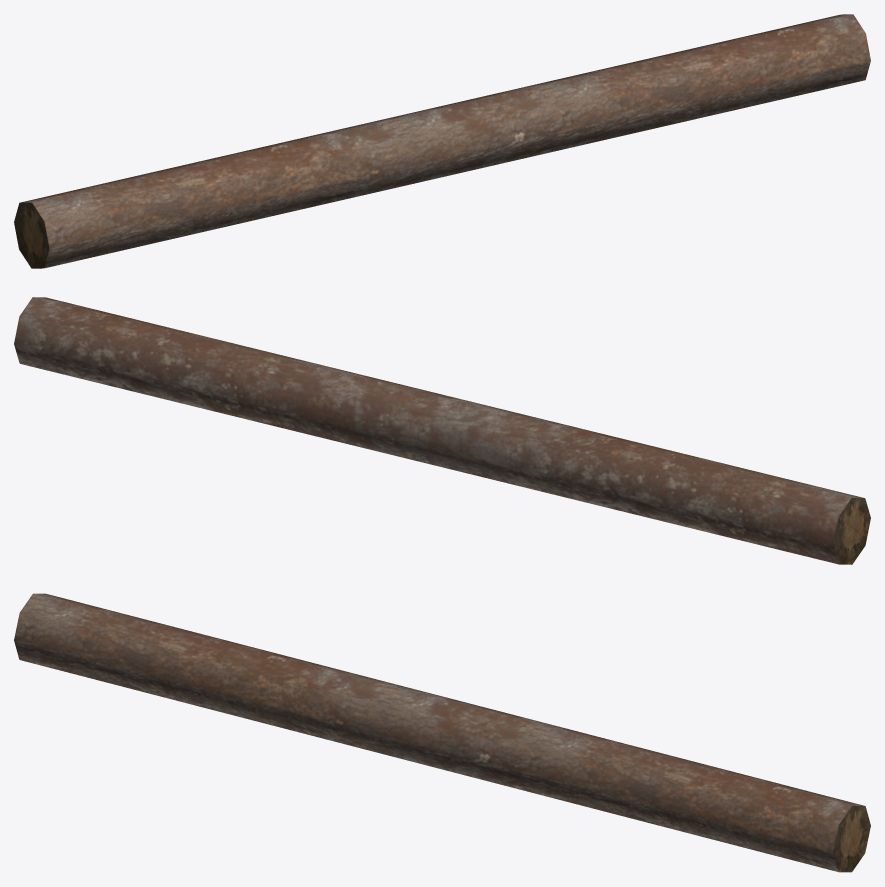
The picture shows the model from 3 angles, top to bottom: view 1: azimuth 30°, elevation 25°; view 2: azimuth 150°, elevation 25°; view 3: azimuth 330°, elevation 25°; orthographic projection.
Visible parts, largest first — view 1: SW_BS_lo; view 2: SW_BS_lo; view 3: SW_BS_lo.
Boxes of the visible parts, box(x1,y1,x2,y2) form: SW_BS_lo: box(14, 14, 870, 268); SW_BS_lo: box(14, 297, 870, 564); SW_BS_lo: box(14, 593, 870, 872).
Bounding box in the file's own units: 1.29 × 0.1086 × 0.1184.
1 material, 1 textured.
